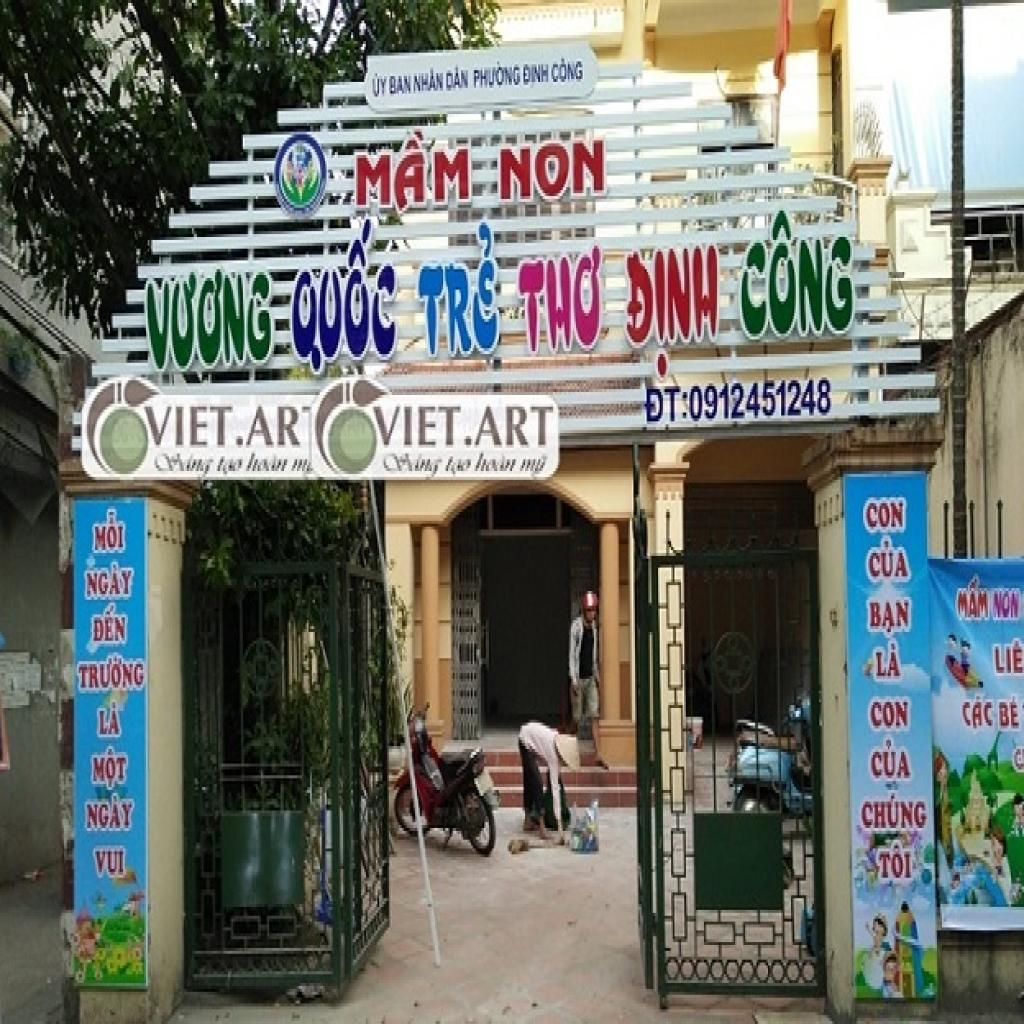text: (288, 202, 400, 386), (738, 196, 860, 351), (622, 231, 725, 383), (141, 264, 277, 378), (410, 216, 507, 366), (353, 123, 476, 219), (514, 237, 607, 363), (686, 369, 837, 427), (497, 132, 612, 208), (371, 404, 466, 453), (141, 401, 235, 450), (473, 404, 556, 450), (76, 652, 148, 700), (858, 790, 929, 837), (82, 787, 140, 837), (244, 404, 307, 450), (81, 558, 141, 606), (865, 533, 917, 588), (868, 734, 919, 790), (640, 380, 693, 430), (873, 834, 916, 889), (87, 506, 131, 559), (376, 450, 448, 482), (149, 450, 220, 482), (89, 746, 133, 796), (862, 492, 909, 538), (865, 594, 914, 638), (88, 600, 130, 649), (866, 694, 912, 738), (872, 635, 908, 687), (955, 574, 991, 623), (472, 56, 522, 90), (991, 635, 1024, 679), (90, 846, 128, 884), (962, 694, 996, 734), (472, 450, 522, 477), (243, 450, 292, 477), (94, 699, 126, 740), (990, 582, 1022, 623), (550, 56, 586, 88), (519, 450, 553, 482), (412, 64, 445, 96), (443, 450, 476, 480), (213, 453, 246, 480), (522, 61, 551, 91), (445, 64, 469, 96), (387, 70, 412, 100), (368, 70, 390, 100), (289, 456, 312, 477)
